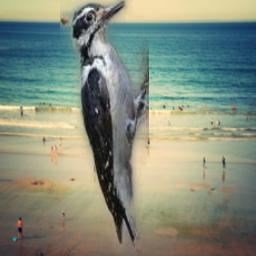Woodpecker: (60, 0, 149, 256)
